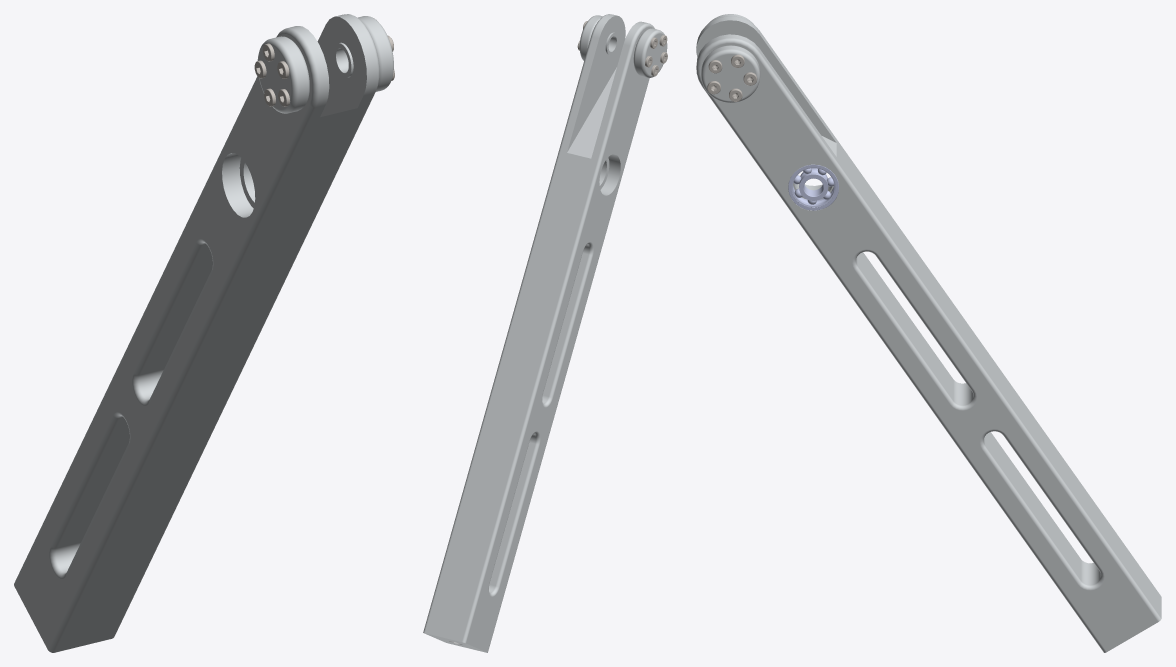
3 renders of one model, left to right at view 1: azimuth 30°, elevation 25°; view 2: azimuth 150°, elevation 25°; view 3: azimuth 270°, elevation 25°, orthographic. The views are drawn at different scales.
Visible parts, largest first — view 1: B3FINAL; view 2: B3FINAL; view 3: B3FINAL.
Part boxes in pixels (x1,y1,x2,y2): B3FINAL: (14,14,394,652); B3FINAL: (423,14,667,652); B3FINAL: (696,14,1161,652).
Size of the model in its own units: 0.0492 by 0.3449 by 0.2367.
4 materials, 1 textured.
